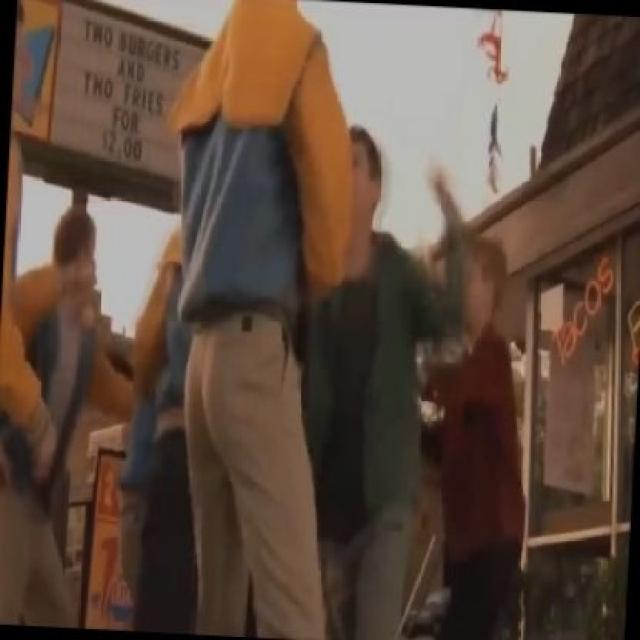fight: (162, 0, 494, 638)
